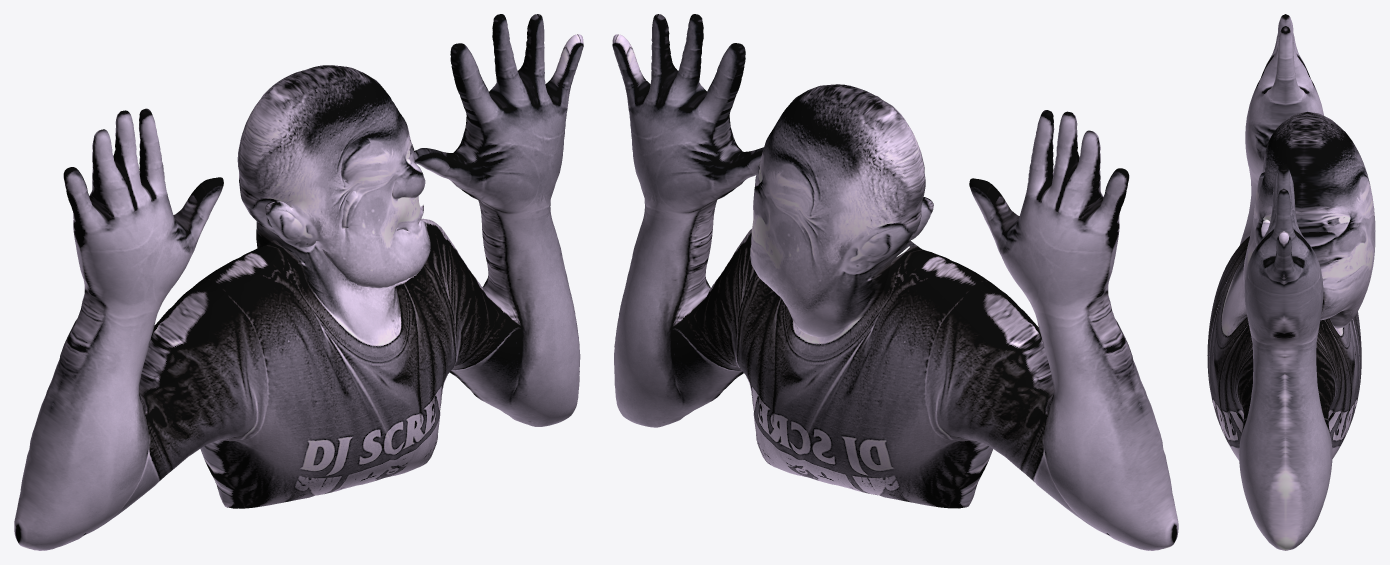
Rendered from facesmush.gltf.
3 renders of one model, left to right at view 1: azimuth 30°, elevation 25°; view 2: azimuth 150°, elevation 25°; view 3: azimuth 270°, elevation 25°, orthographic. The views are drawn at different scales.
Visible parts, largest first — view 1: Mesh_0.002; view 2: Mesh_0.002; view 3: Mesh_0.002.
Boxes of the visible parts, x1,y1,x2,y2 form: Mesh_0.002: (14,14,583,550); Mesh_0.002: (612,14,1178,550); Mesh_0.002: (1207,14,1375,550).
Size of the model in its own units: 7.85 by 5.71 by 2.37.
Materials: 1 (1 with a texture image).
